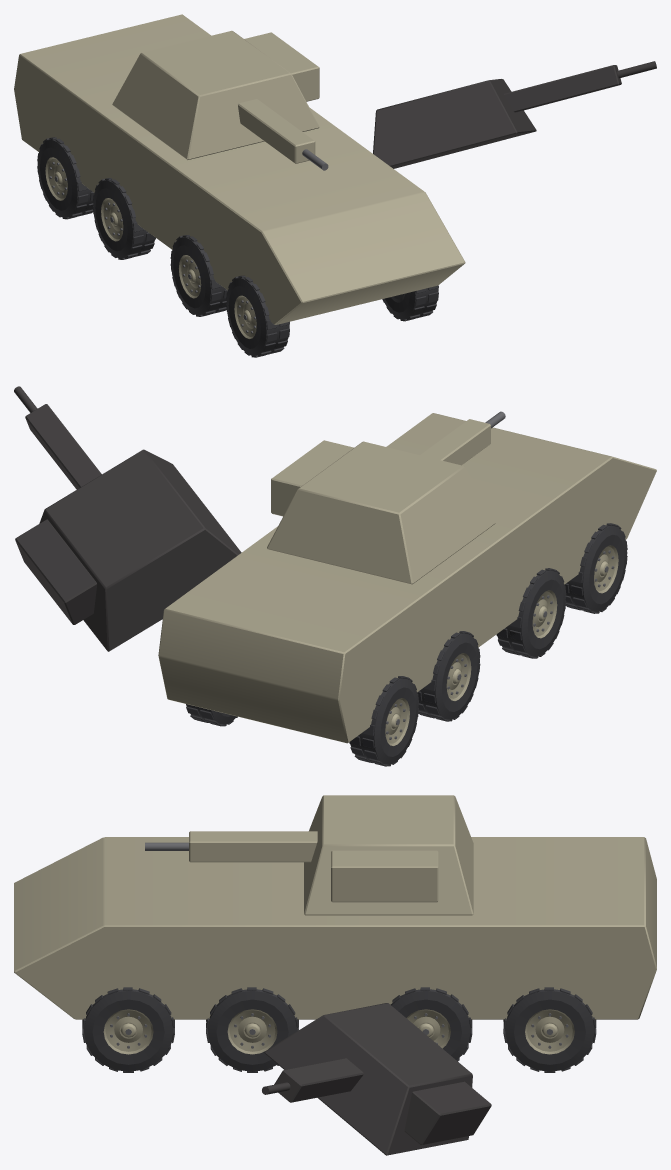
File: aaVehicle__k30_biho_ii.glb
3 views of the same model, one above another, from view 1: azimuth 30°, elevation 25°; view 2: azimuth 150°, elevation 25°; view 3: azimuth 270°, elevation 25° (orthographic). The views are drawn at different scales.
Parts seen in each view (by area): view 1: Hull_Mesh, Turret_Mesh, Wreck, Wheel_L3_Mesh, Wheel_L1_Mesh, Wheel_L0_Mesh, Wheel_L2_Mesh, Gun_Mesh, Wheel_R3_Mesh; view 2: Hull_Mesh, Wreck, Turret_Mesh, Wheel_L0_Mesh, Wheel_L2_Mesh, Wheel_L1_Mesh, Wheel_L3_Mesh, Gun_Mesh, Wheel_R0_Mesh; view 3: Hull_Mesh, Wreck, Turret_Mesh, Wheel_R0_Mesh, Wheel_R3_Mesh, Wheel_R2_Mesh, Gun_Mesh, Wheel_R1_Mesh.
Part boxes in pixels (bbox=[...]): Hull_Mesh: bbox=[14, 14, 465, 324]; Turret_Mesh: bbox=[112, 30, 319, 159]; Wreck: bbox=[40, 61, 656, 357]; Wheel_L3_Mesh: bbox=[226, 275, 289, 357]; Wheel_L1_Mesh: bbox=[93, 178, 155, 259]; Wheel_L0_Mesh: bbox=[37, 137, 94, 219]; Wheel_L2_Mesh: bbox=[170, 235, 227, 316]; Gun_Mesh: bbox=[238, 99, 328, 170]; Wheel_R3_Mesh: bbox=[382, 285, 438, 321]; Hull_Mesh: bbox=[158, 413, 656, 743]; Wreck: bbox=[14, 386, 624, 761]; Turret_Mesh: bbox=[267, 440, 495, 584]; Wheel_L0_Mesh: bbox=[349, 676, 418, 766]; Wheel_L2_Mesh: bbox=[496, 568, 566, 658]; Wheel_L1_Mesh: bbox=[417, 631, 480, 721]; Wheel_L3_Mesh: bbox=[564, 523, 627, 613]; Gun_Mesh: bbox=[420, 411, 505, 465]; Wheel_R0_Mesh: bbox=[186, 704, 237, 726]; Hull_Mesh: bbox=[14, 837, 656, 1019]; Wreck: bbox=[109, 1003, 562, 1155]; Turret_Mesh: bbox=[304, 795, 473, 915]; Wheel_R0_Mesh: bbox=[503, 987, 596, 1072]; Wheel_R3_Mesh: bbox=[82, 987, 174, 1072]; Wheel_R2_Mesh: bbox=[206, 987, 298, 1072]; Gun_Mesh: bbox=[145, 831, 317, 862]; Wheel_R1_Mesh: bbox=[390, 987, 472, 1061].
Size of what is drawn, in the model's own units: 7.39 by 2.76 by 7.78.
